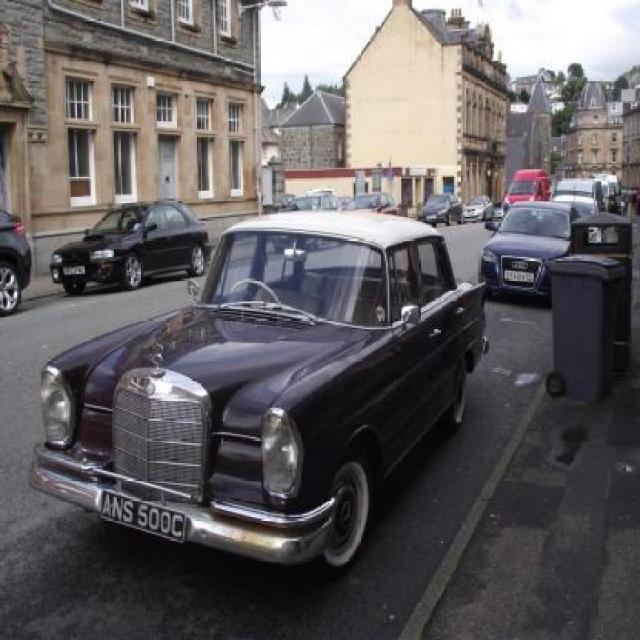License-Plates: (102, 492, 185, 544)
